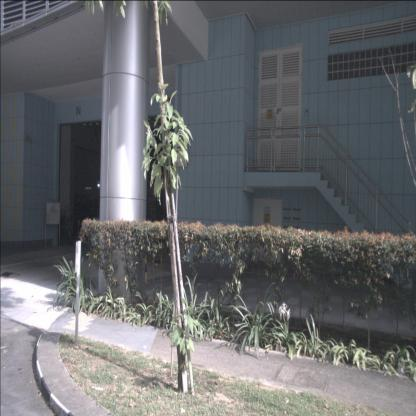vehicle-bicycle: (57, 217, 74, 244)
